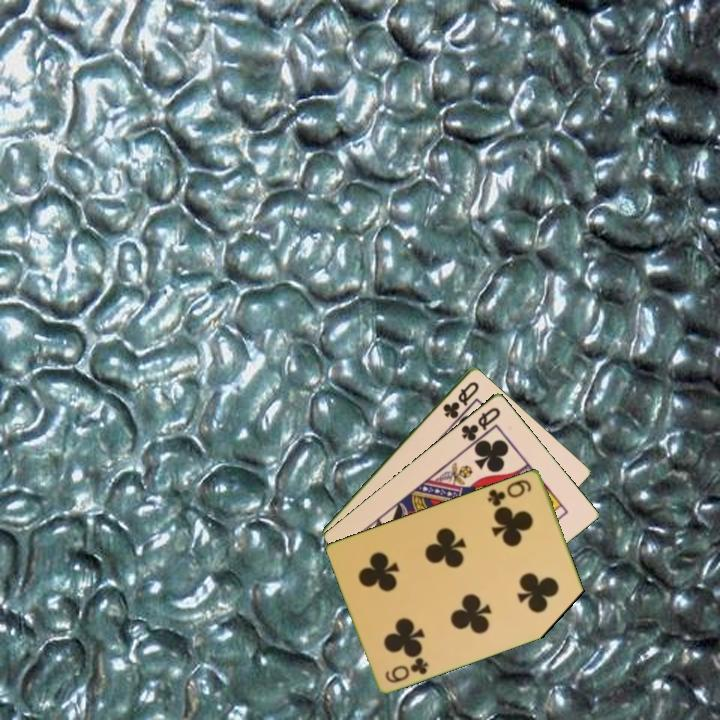6c: (484, 475, 535, 509), (382, 654, 431, 686)
Qc: (439, 377, 482, 422), (458, 403, 503, 444)
